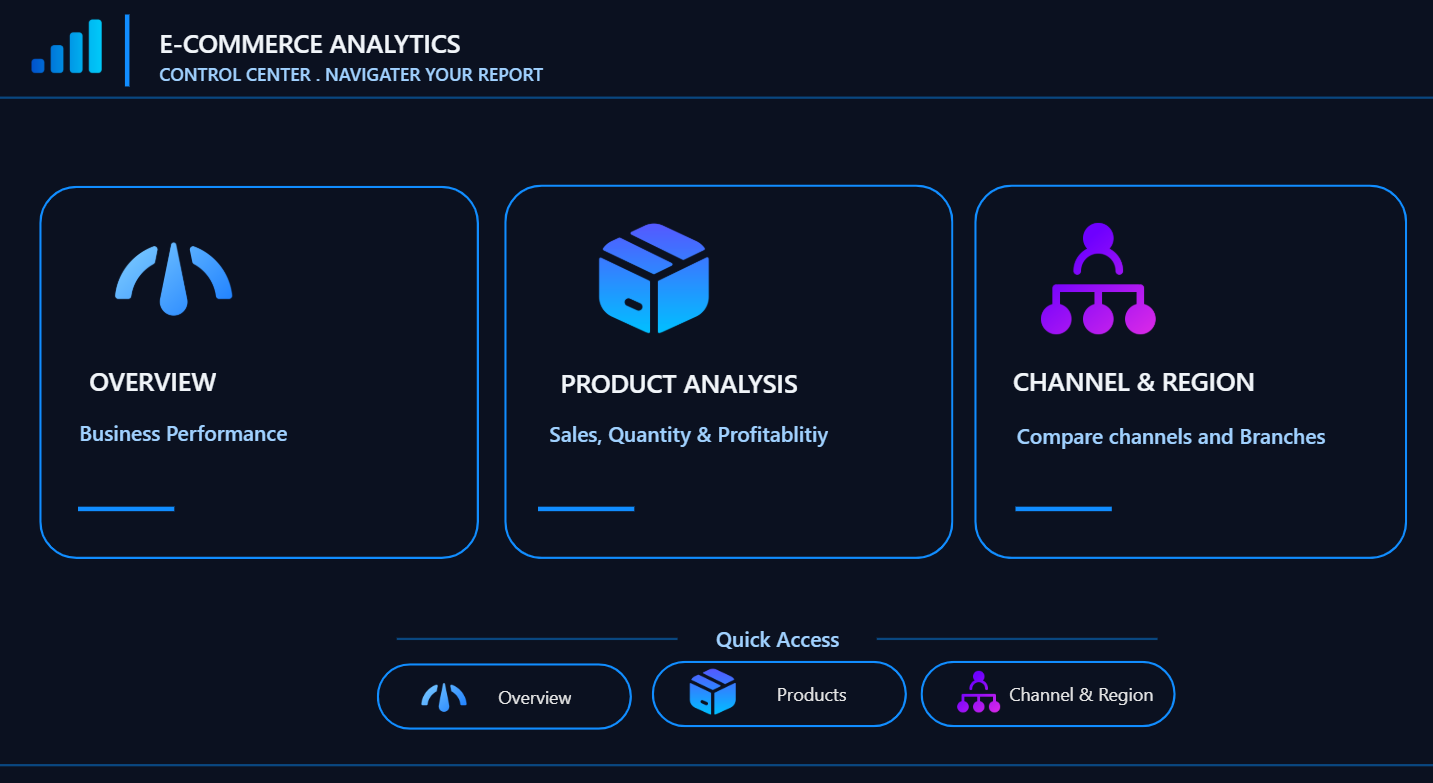

This screenshot's page, from the dashboard's own definition file:
{"tool":"powerbi","page":{"name":"Controling","canvas":[1280,720],"ordinal":0},"visuals":[{"type":"shape","box":[123.1,12.1,1142.5,63.9],"z":0},{"type":"shape","box":[0,72.4,1280,43.4],"z":1000},{"type":"shape","box":[36.2,172.5,390.9,331.8],"z":2000},{"type":"shape","box":[450,171.3,399.3,333],"z":3000},{"type":"shape","box":[867.4,171.3,384.9,333],"z":4000},{"type":"shape","box":[61.5,313.7,340.2,63.9],"z":5000},{"type":"shape","box":[480.2,314.9,340.2,63.9],"z":6000},{"type":"shape","box":[881.9,313.7,340.2,63.9],"z":7000},{"type":"image","box":[904.8,195.4,147.2,118.2],"z":8000},{"type":"image","box":[497.1,195.4,172.5,118.2],"z":9000},{"type":"image","box":[73.6,195.4,165.3,119.4],"z":10000},{"type":"shape","box":[51.9,359.5,349.9,63.9],"z":11000},{"type":"shape","box":[470.5,360.7,349.9,63.9],"z":12000},{"type":"shape","box":[885.5,361.9,349.9,63.9],"z":13000},{"type":"shape","box":[71.2,437.9,85.7,43.4],"z":14000},{"type":"shape","box":[480.2,437.9,85.7,43.4],"z":15000},{"type":"shape","box":[904.8,437.9,85.7,43.4],"z":16000},{"type":"shape","box":[354.7,553.8,249.7,43.4],"z":17000},{"type":"shape","box":[780.6,553.8,249.7,43.4],"z":18000},{"type":"shape","box":[545.3,542.9,275.1,63.9],"z":19000},{"type":"shape","box":[0,666,1280,43.4],"z":20000},{"type":"shape","box":[336.6,597.2,226.8,59.1],"z":21000},{"type":"image","box":[354.7,600.8,84.5,51.9],"z":22000},{"type":"shape","box":[581.5,594.8,226.8,59.1],"z":23000},{"type":"shape","box":[820.4,594.8,226.8,59.1],"z":24000},{"type":"image","box":[837.3,597.2,67.6,50.7],"z":25000},{"type":"shape","box":[123.1,41,422.3,63.9],"z":26000},{"type":"image","box":[18.1,12.1,85.7,72.4],"z":27000},{"type":"image","box":[587.5,594.8,95.3,55.5],"z":28000},{"type":"shape","box":[89.3,20.5,51.9,63.9],"z":29000}]}

Visuals, with their boxes in screenshot pixels (x1, y1, x2, y2), scaled from the page's 1280x720 canvas onto the 1433x783 screenshot:
shape: (138, 13, 1417, 83)
shape: (0, 79, 1432, 126)
shape: (41, 188, 478, 548)
shape: (504, 186, 951, 548)
shape: (971, 186, 1402, 548)
shape: (69, 341, 450, 411)
shape: (538, 342, 918, 412)
shape: (987, 341, 1368, 411)
image: (1013, 212, 1178, 341)
image: (557, 212, 750, 341)
image: (82, 212, 267, 342)
shape: (58, 391, 450, 460)
shape: (527, 392, 918, 462)
shape: (991, 394, 1383, 463)
shape: (80, 476, 176, 523)
shape: (538, 476, 634, 523)
shape: (1013, 476, 1109, 523)
shape: (397, 602, 677, 649)
shape: (874, 602, 1153, 649)
shape: (610, 590, 918, 660)
shape: (0, 724, 1432, 771)
shape: (377, 649, 631, 714)
image: (397, 653, 492, 710)
shape: (651, 647, 905, 711)
shape: (918, 647, 1172, 711)
image: (937, 649, 1013, 705)
shape: (138, 45, 611, 114)
image: (20, 13, 116, 92)
image: (658, 647, 764, 707)
shape: (100, 22, 158, 92)
